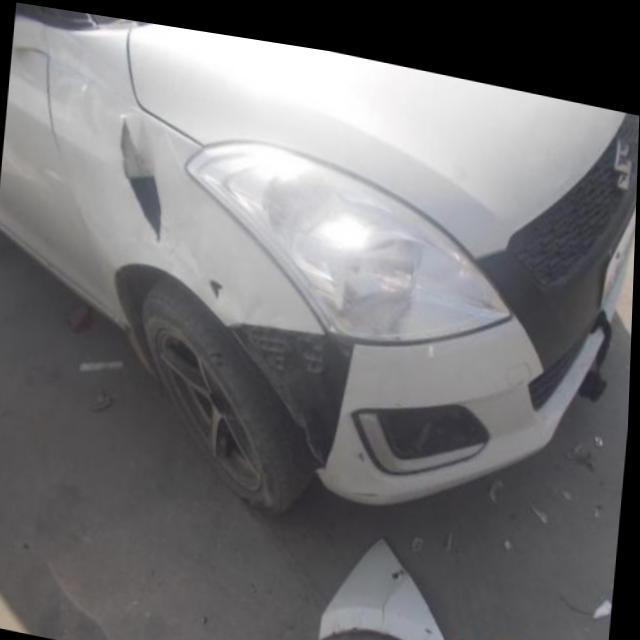crack: (113, 109, 164, 247), (202, 266, 231, 297)
no part: (229, 316, 357, 465)
